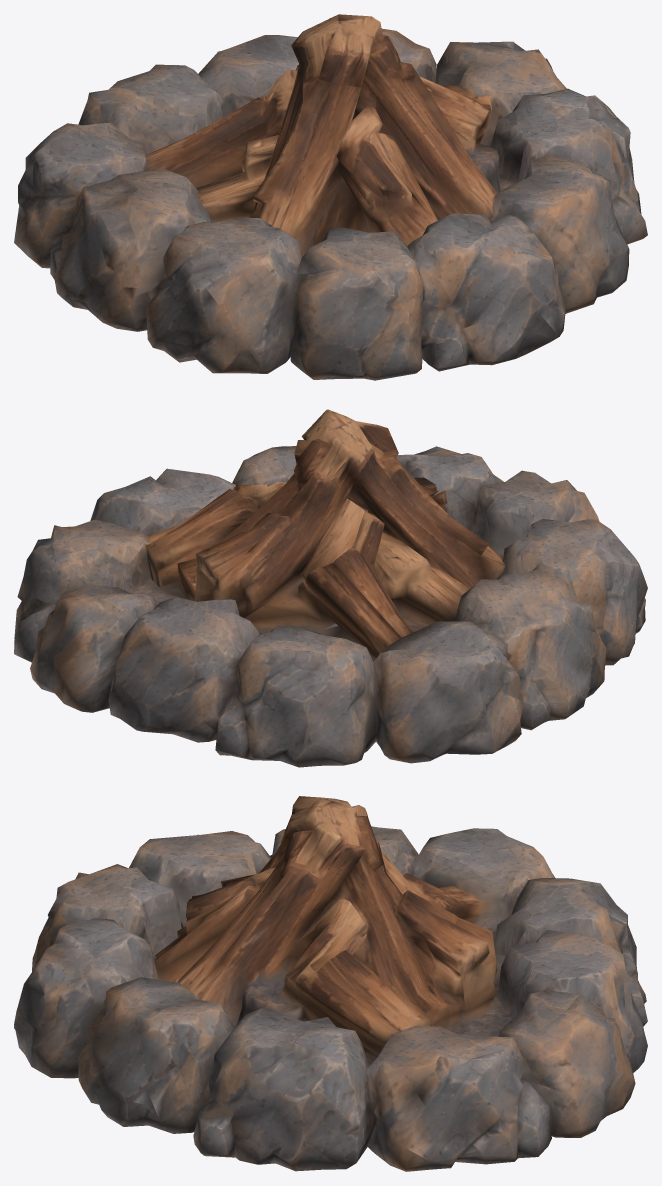
File: SM_Env_Campfire.fbx
3 views of the same model, one above another, from view 1: azimuth 30°, elevation 25°; view 2: azimuth 150°, elevation 25°; view 3: azimuth 270°, elevation 25° (orthographic). The views are drawn at different scales.
Visible parts, largest first — view 1: SM_Env_Campfire; view 2: SM_Env_Campfire; view 3: SM_Env_Campfire.
Boxes of the visible parts, left/top/right/bottom form: SM_Env_Campfire: left=14, top=14, right=647, bottom=380; SM_Env_Campfire: left=14, top=409, right=647, bottom=767; SM_Env_Campfire: left=14, top=796, right=647, bottom=1171.
Bounding box in the file's own units: 40 × 39.84 × 16.83.
1 material, 1 textured.
